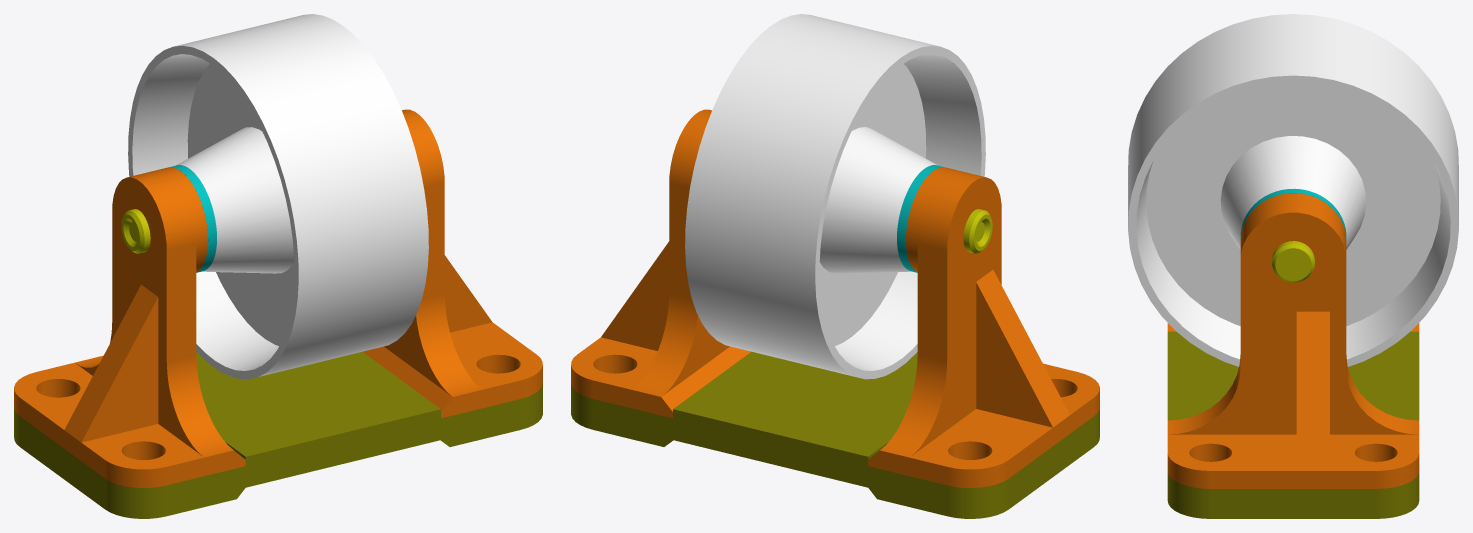
The picture shows the model from 3 angles, left to right: view 1: azimuth 30°, elevation 25°; view 2: azimuth 150°, elevation 25°; view 3: azimuth 270°, elevation 25°; orthographic projection. The views are drawn at different scales.
Parts seen in each view (by area): view 1: hw-06-01-03-1, hw-06-01-01-3, hw-06-01-02-1, hw-06-01-01-2, hw-06-01-04-1, hw-06-01-05-1; view 2: hw-06-01-03-1, hw-06-01-01-3, hw-06-01-02-1, hw-06-01-01-2, hw-06-01-04-1, hw-06-01-05-1; view 3: hw-06-01-03-1, hw-06-01-01-2, hw-06-01-02-1, hw-06-01-05-1, hw-06-01-04-2.
Boxes of the visible parts, box(x1,y1,x2,y2) form: hw-06-01-03-1: box(128, 14, 428, 379); hw-06-01-01-3: box(14, 167, 245, 487); hw-06-01-02-1: box(14, 351, 542, 518); hw-06-01-01-2: box(363, 109, 542, 418); hw-06-01-04-1: box(170, 165, 216, 272); hw-06-01-05-1: box(121, 209, 150, 253); hw-06-01-03-1: box(685, 14, 985, 379); hw-06-01-01-3: box(868, 167, 1099, 487); hw-06-01-02-1: box(571, 351, 1099, 518); hw-06-01-01-2: box(571, 109, 750, 418); hw-06-01-04-1: box(897, 165, 943, 272); hw-06-01-05-1: box(963, 209, 992, 253); hw-06-01-03-1: box(1128, 14, 1458, 366); hw-06-01-01-2: box(1167, 193, 1419, 488); hw-06-01-02-1: box(1167, 331, 1419, 518); hw-06-01-05-1: box(1272, 241, 1314, 282); hw-06-01-04-2: box(1240, 188, 1346, 238).
Bounding box in the file's own units: 0.146 × 0.124 × 0.1.
